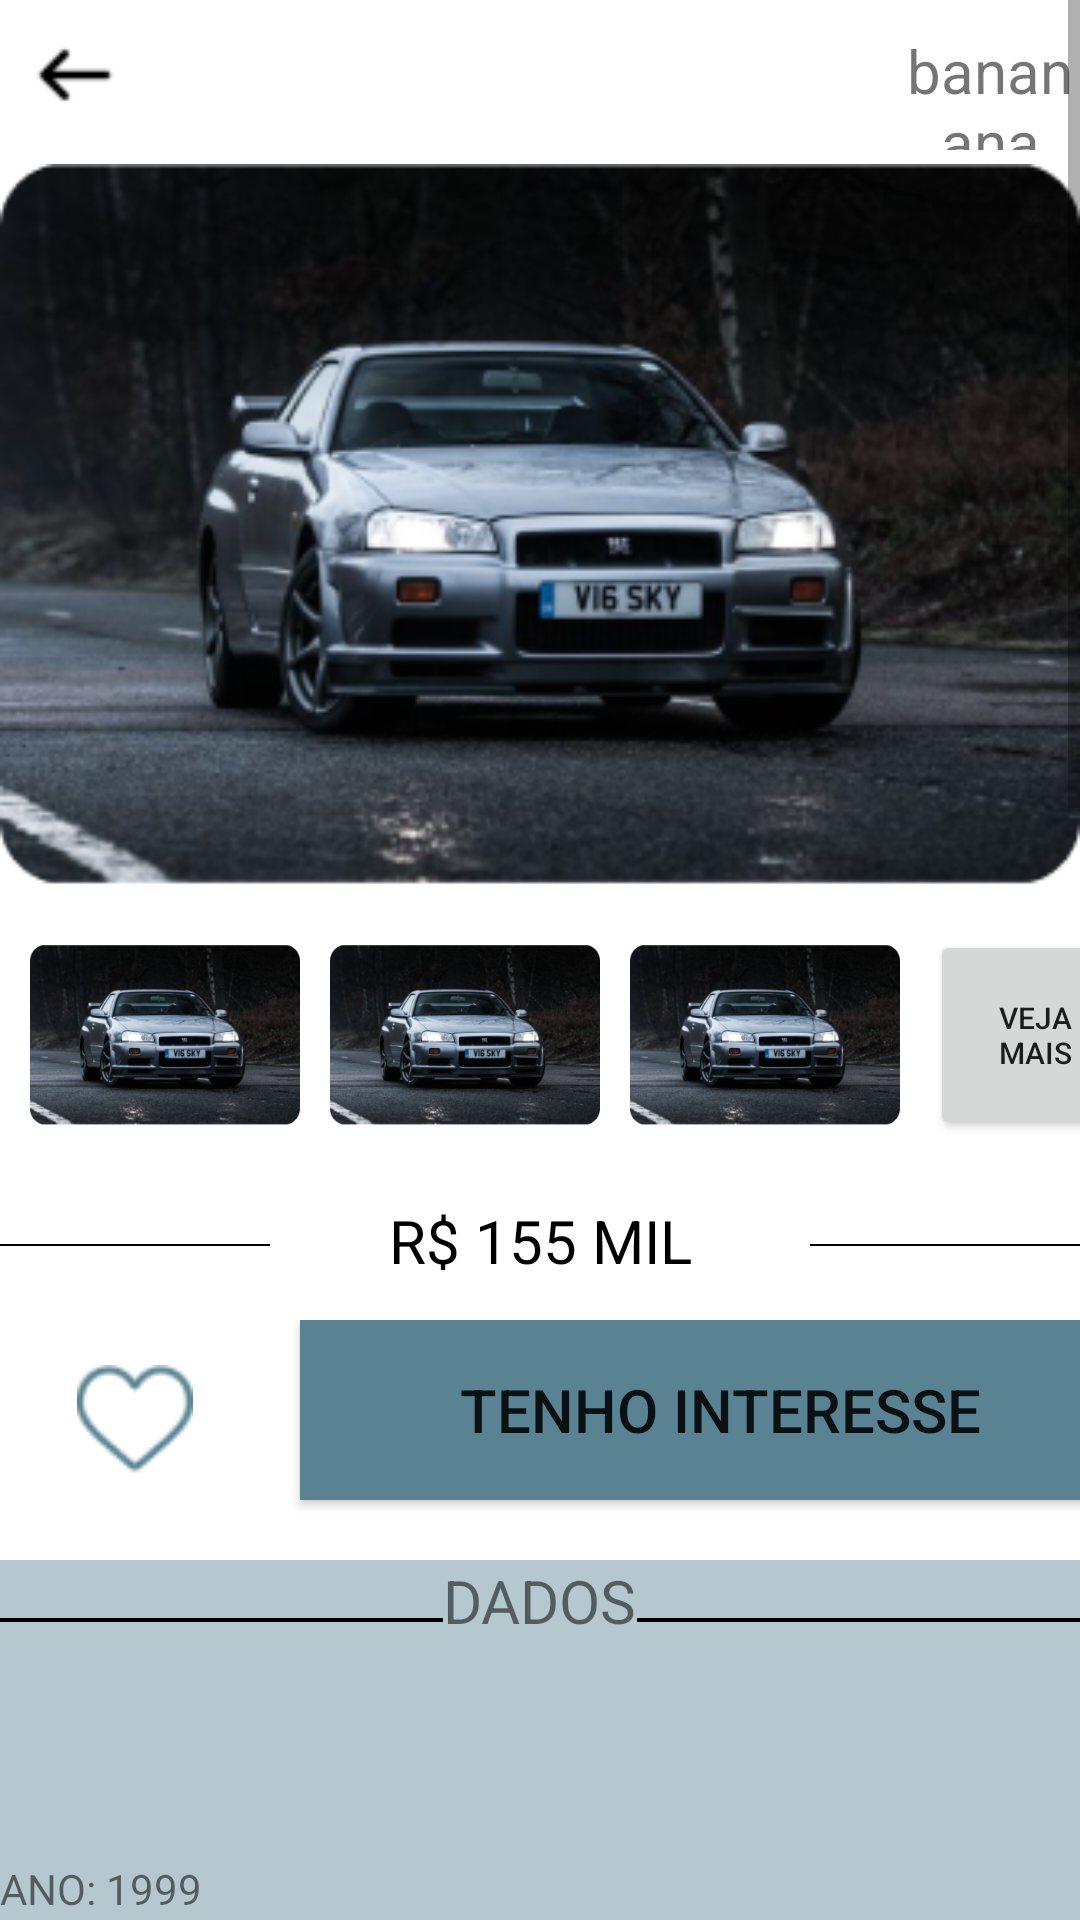

Where icons sit on this 1080x1920 app screen, as (x1=x1, y1=y1, x2=x2, y2=y2):
coracao: (x1=77, y1=1365, x2=193, y2=1472)
voltar: (x1=38, y1=48, x2=112, y2=101)
